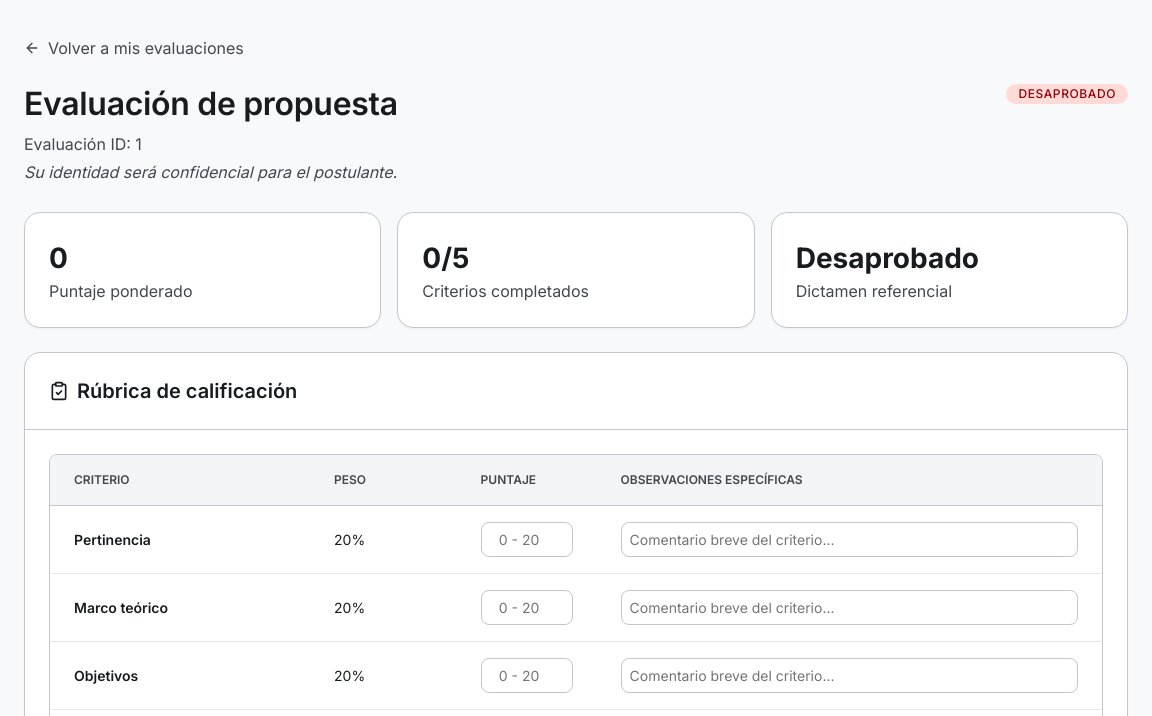
Scenario: EvaluationForm › shows total score calculation
Type "10" into the number field with placeholder "0 - 20" in the row of "Pertinencia" at x=527, y=540, box 481,522 -> 573,557
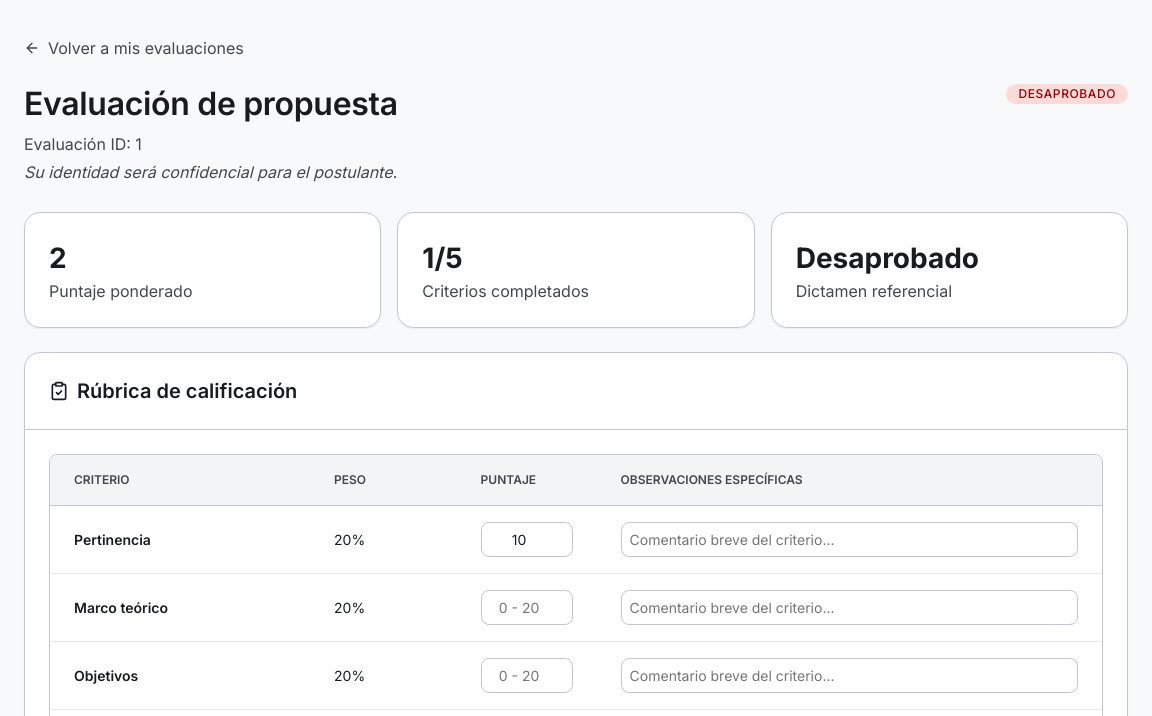
Type "10" into the number field with placeholder "0 - 20" in the row of "Marco teórico" at x=527, y=608, box 481,590 -> 573,625
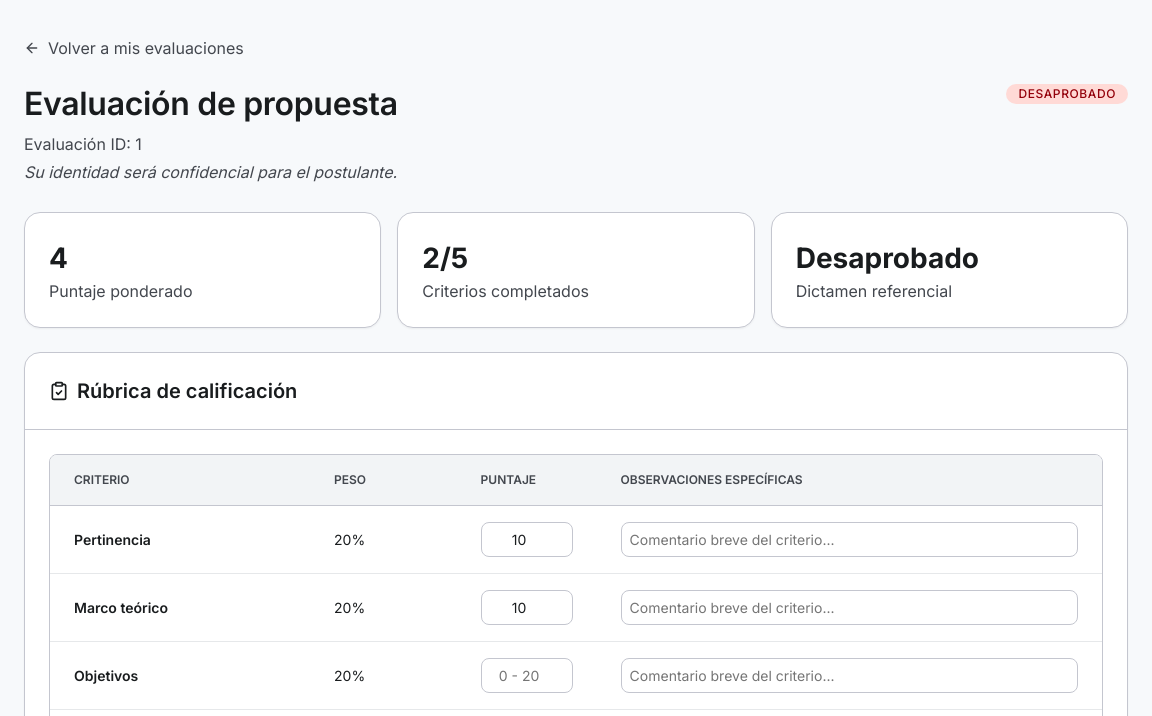
Type "10" into the number field with placeholder "0 - 20" in the row of "Objetivos" at x=527, y=676, box 481,658 -> 573,693
(page scrolled)
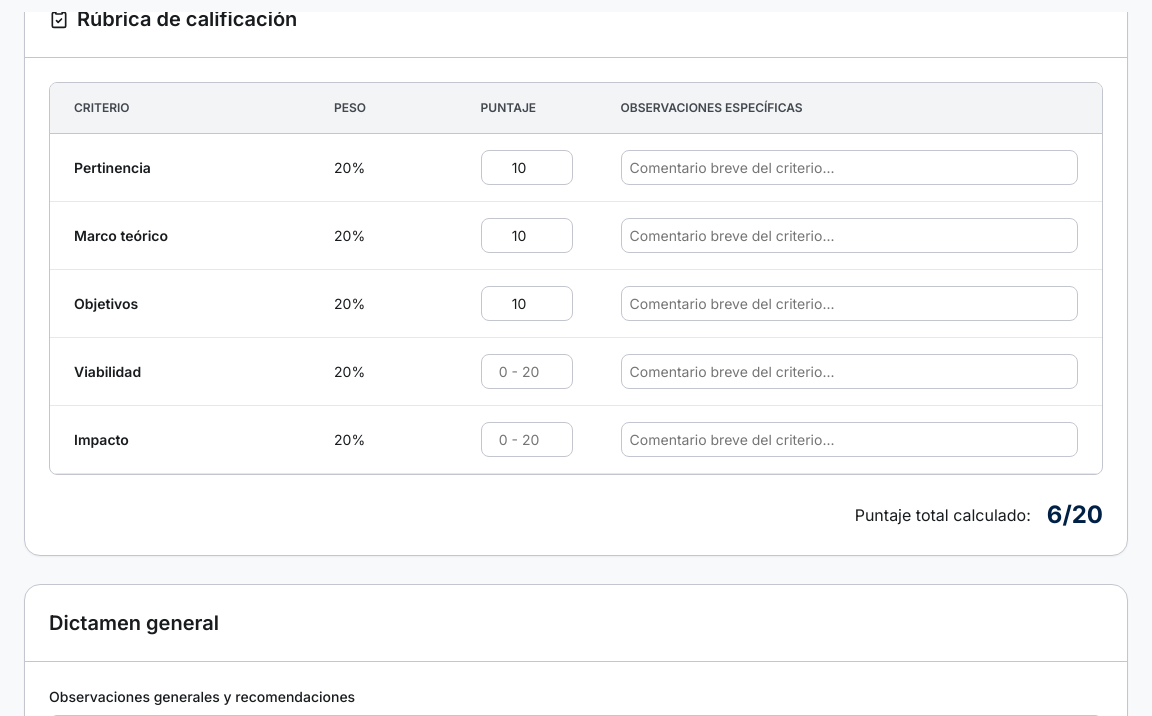
Type "10" into the number field with placeholder "0 - 20" in the row of "Viabilidad" at x=527, y=372, box 481,354 -> 573,389
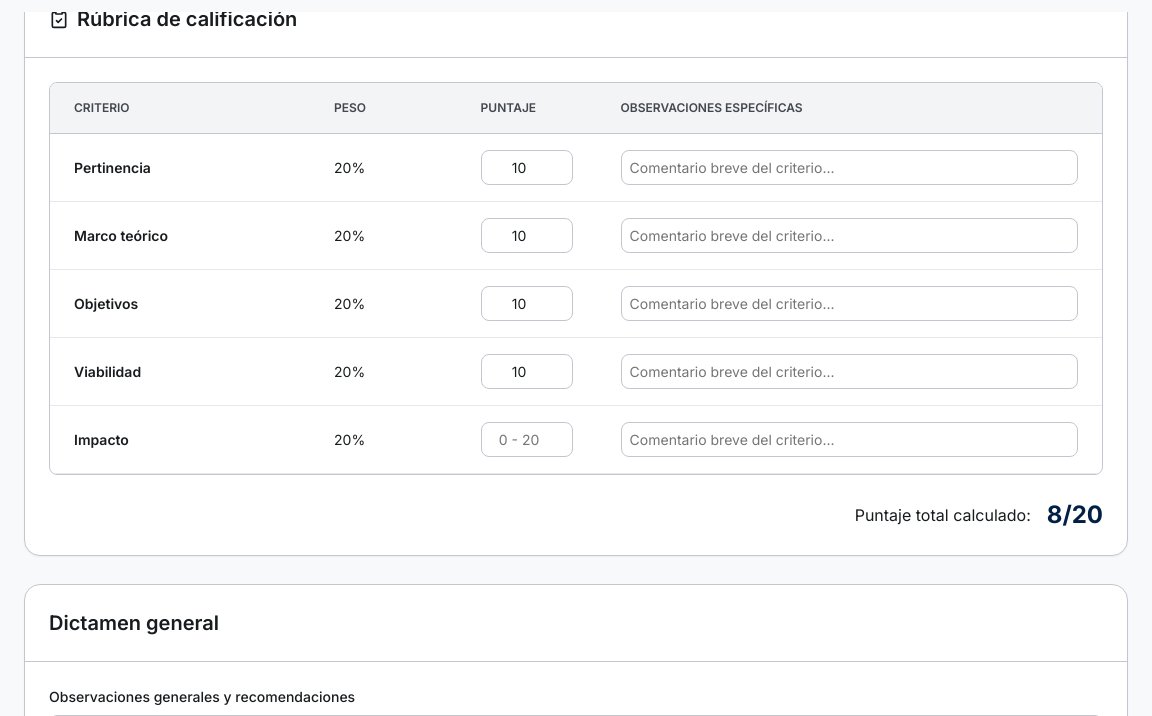
Type "10" into the number field with placeholder "0 - 20" at x=527, y=440, box 481,422 -> 573,457
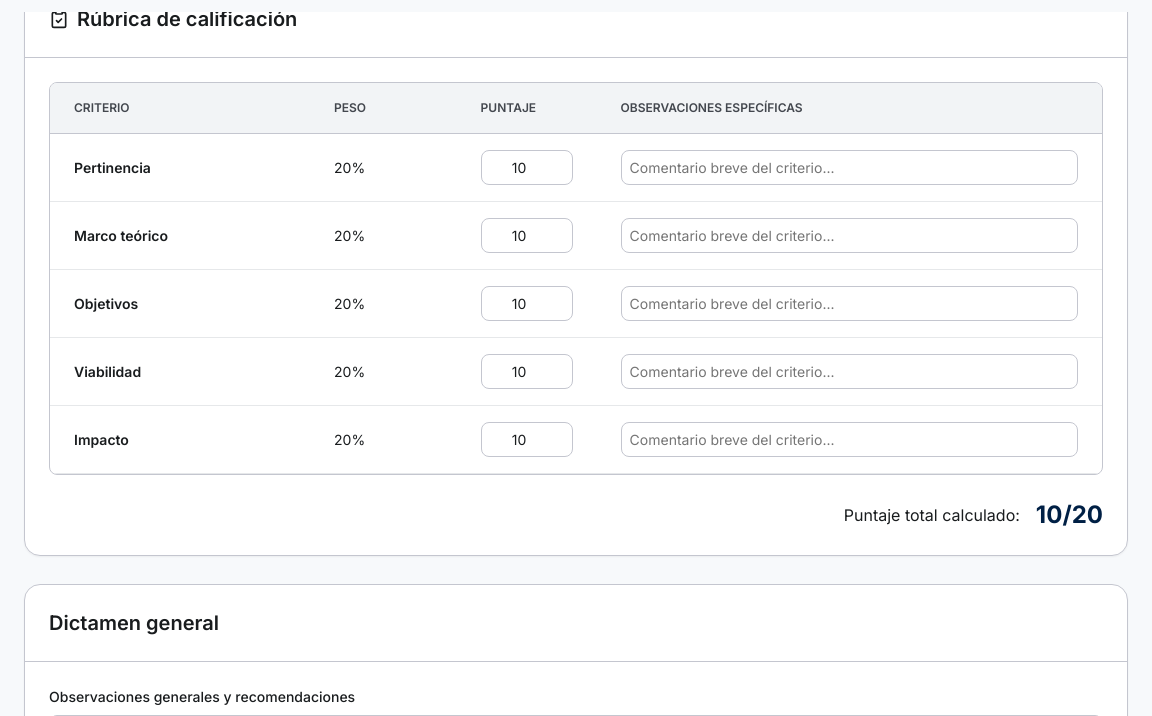
Expected: the text "10/20" is shown, 1036,499 -> 1103,531
